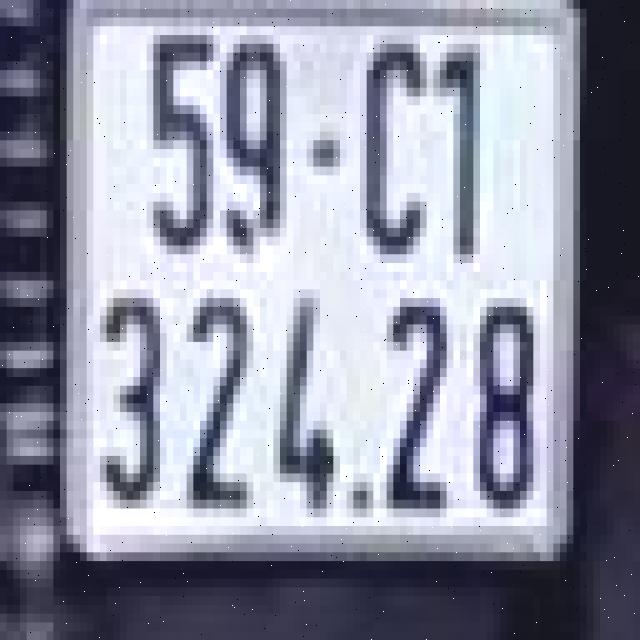1: (433, 40, 487, 258)
2: (376, 280, 456, 534), (180, 272, 253, 526)
3: (80, 281, 167, 526)
4: (267, 276, 340, 513)
5: (140, 18, 220, 254)
8: (477, 263, 550, 526)
9: (223, 18, 290, 263)
C: (353, 26, 427, 272)
